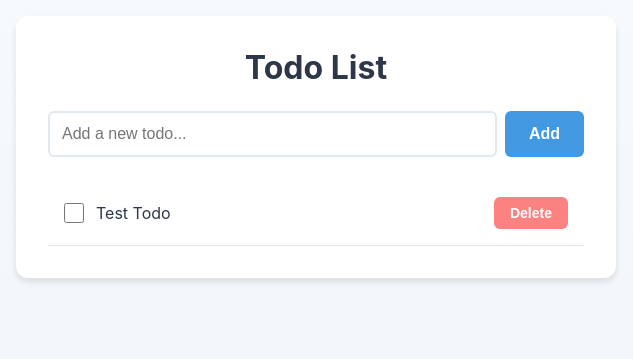
Scenario: Home Component › should display error when updating todo fails
Check: the text "Test Todo" is shown, box top-left (96, 203), bottom-right (171, 223)
Step 1. Click the checkbox → (74, 213), box top-left (64, 203), bottom-right (84, 223)
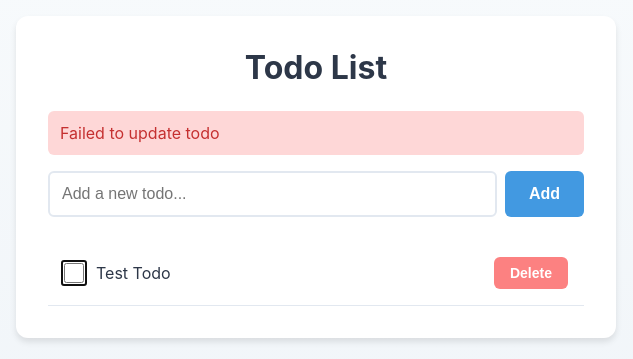
Check: the text "Failed to update todo" is shown, box top-left (48, 111), bottom-right (584, 155)
